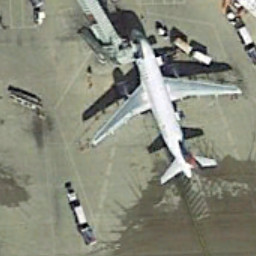Airplane: (82, 14, 247, 196)
